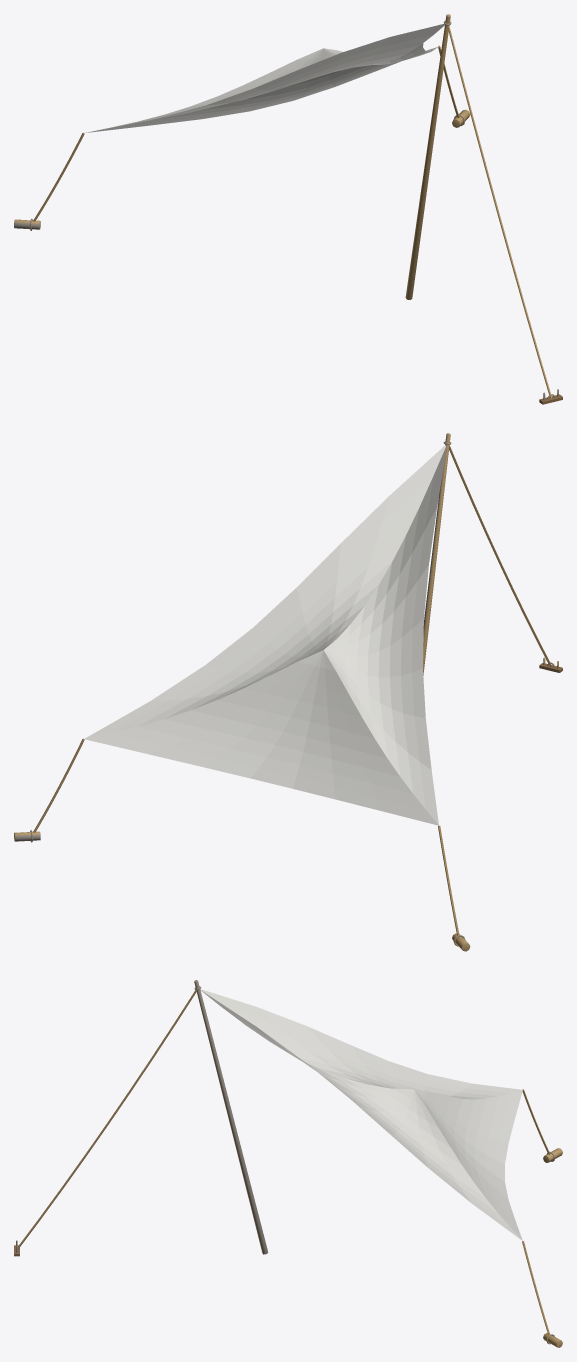
Rendered from nomad_sail_tri_tall.fbx.
The picture shows the model from 3 angles, top to bottom: view 1: azimuth 30°, elevation 25°; view 2: azimuth 150°, elevation 25°; view 3: azimuth 270°, elevation 25°; orthographic projection. The views are drawn at different scales.
Parts seen in each view (by area): view 1: S04_Canopy, S04_Mast_SailRig_MastPole, S04_Guy; view 2: S04_Canopy, S04_Mast_SailRig_MastPole, S04_Guy; view 3: S04_Canopy, S04_Mast_SailRig_MastPole, S04_Guy.
Part boxes in pixels (<box>): S04_Canopy: <box>86,24,444,132</box>; S04_Mast_SailRig_MastPole: <box>405,14,451,299</box>; S04_Guy: <box>447,25,551,398</box>; S04_Canopy: <box>84,445,446,825</box>; S04_Mast_SailRig_MastPole: <box>423,433,451,675</box>; S04_Guy: <box>449,445,552,666</box>; S04_Canopy: <box>200,989,522,1240</box>; S04_Mast_SailRig_MastPole: <box>194,980,268,1254</box>; S04_Guy: <box>17,990,196,1249</box>.
Size of the model in its own units: 693 by 455 by 828.
